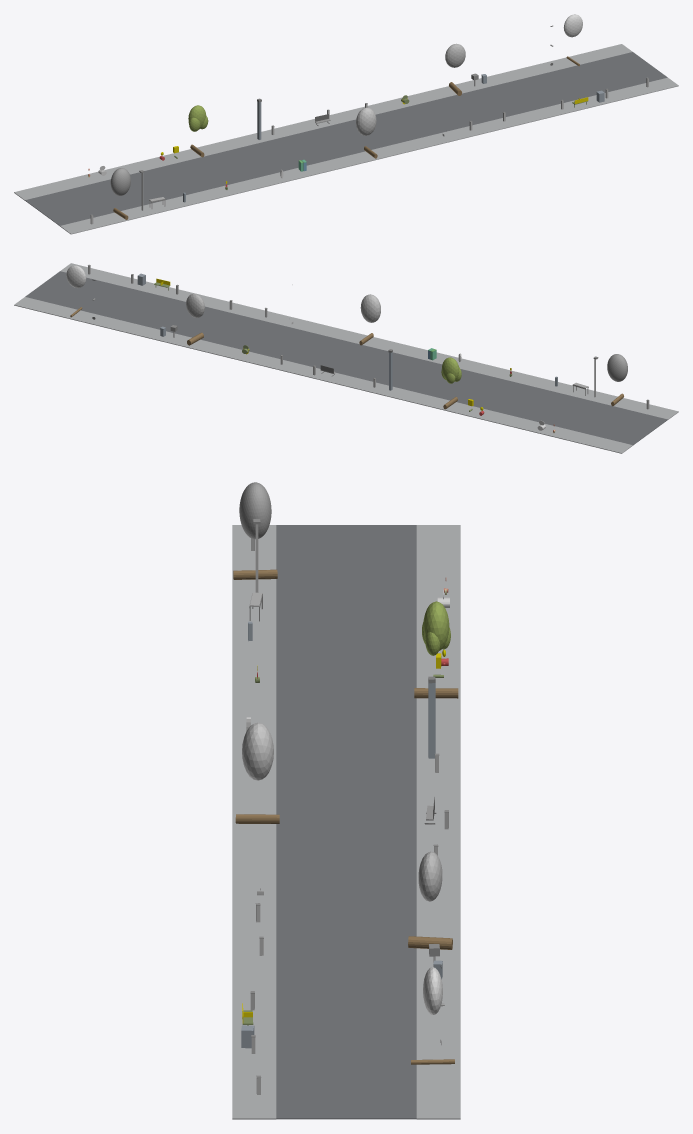
3 renders of one model, top to bottom at view 1: azimuth 30°, elevation 25°; view 2: azimuth 150°, elevation 25°; view 3: azimuth 270°, elevation 25°, orthographic. The views are drawn at different scales.
Visible parts, largest first — view 1: road_slab, sidewalk_left, sidewalk_right, inst_0014, inst_0012, inst_0013, inst_0015, inst_0016; view 2: road_slab, sidewalk_right, sidewalk_left, inst_0014, inst_0012, inst_0013, inst_0015, inst_0016; view 3: road_slab, sidewalk_left, sidewalk_right, inst_0014, inst_0012, inst_0013, inst_0015, inst_0016.
Boxes of the visible parts, x1=… form: road_slab: x1=25, y1=52, x2=667, y2=225; sidewalk_left: x1=60, y1=77, x2=678, y2=234; sidewalk_right: x1=14, y1=44, x2=632, y2=200; inst_0014: x1=356, y1=107, x2=377, y2=158; inst_0012: x1=110, y1=168, x2=130, y2=219; inst_0013: x1=188, y1=105, x2=208, y2=157; inst_0015: x1=445, y1=43, x2=465, y2=95; inst_0016: x1=563, y1=14, x2=582, y2=66; road_slab: x1=25, y1=271, x2=667, y2=445; sidewalk_right: x1=14, y1=297, x2=632, y2=453; sidewalk_left: x1=60, y1=263, x2=678, y2=419; inst_0014: x1=359, y1=294, x2=380, y2=345; inst_0012: x1=607, y1=354, x2=627, y2=406; inst_0013: x1=441, y1=357, x2=461, y2=409; inst_0015: x1=186, y1=293, x2=204, y2=345; inst_0016: x1=66, y1=265, x2=86, y2=317; road_slab: x1=276, y1=525, x2=416, y2=1119; sidewalk_left: x1=232, y1=525, x2=276, y2=1119; sidewalk_right: x1=416, y1=525, x2=460, y2=1119; inst_0014: x1=235, y1=722, x2=279, y2=823; inst_0012: x1=233, y1=482, x2=277, y2=579; inst_0013: x1=414, y1=601, x2=458, y2=698; inst_0015: x1=408, y1=851, x2=452, y2=949; inst_0016: x1=411, y1=967, x2=454, y2=1064.
Bounding box in the file's own units: 80 × 6.08 × 13.
